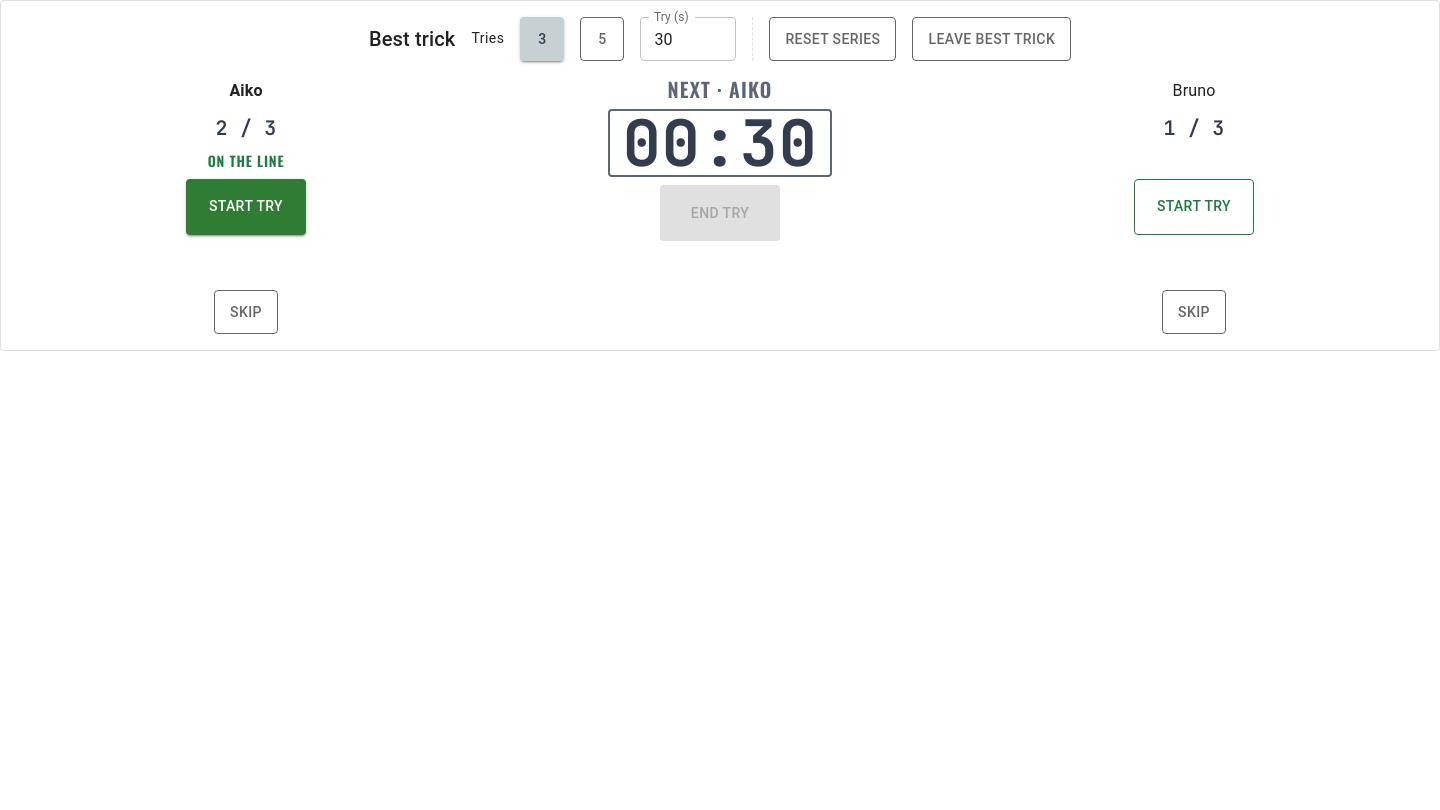
Test: BestTrickPanel — Leave best trick guard › keeps the series when the prompt is dismissed
Click the button "Leave best trick" at point(992, 39), box top-left (912, 17), bottom-right (1071, 61)
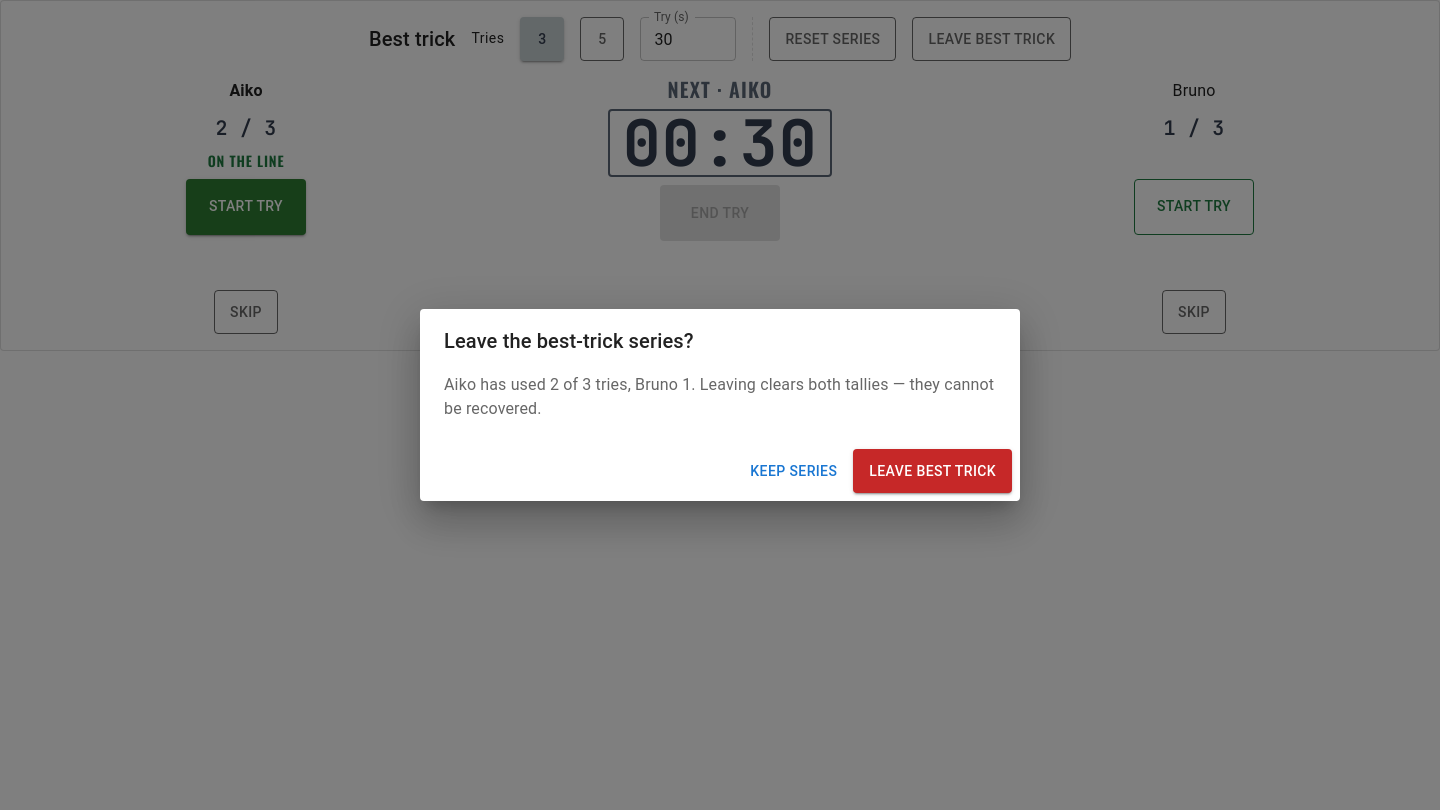
Click the button "Keep series" at point(794, 471), box top-left (742, 453), bottom-right (845, 489)
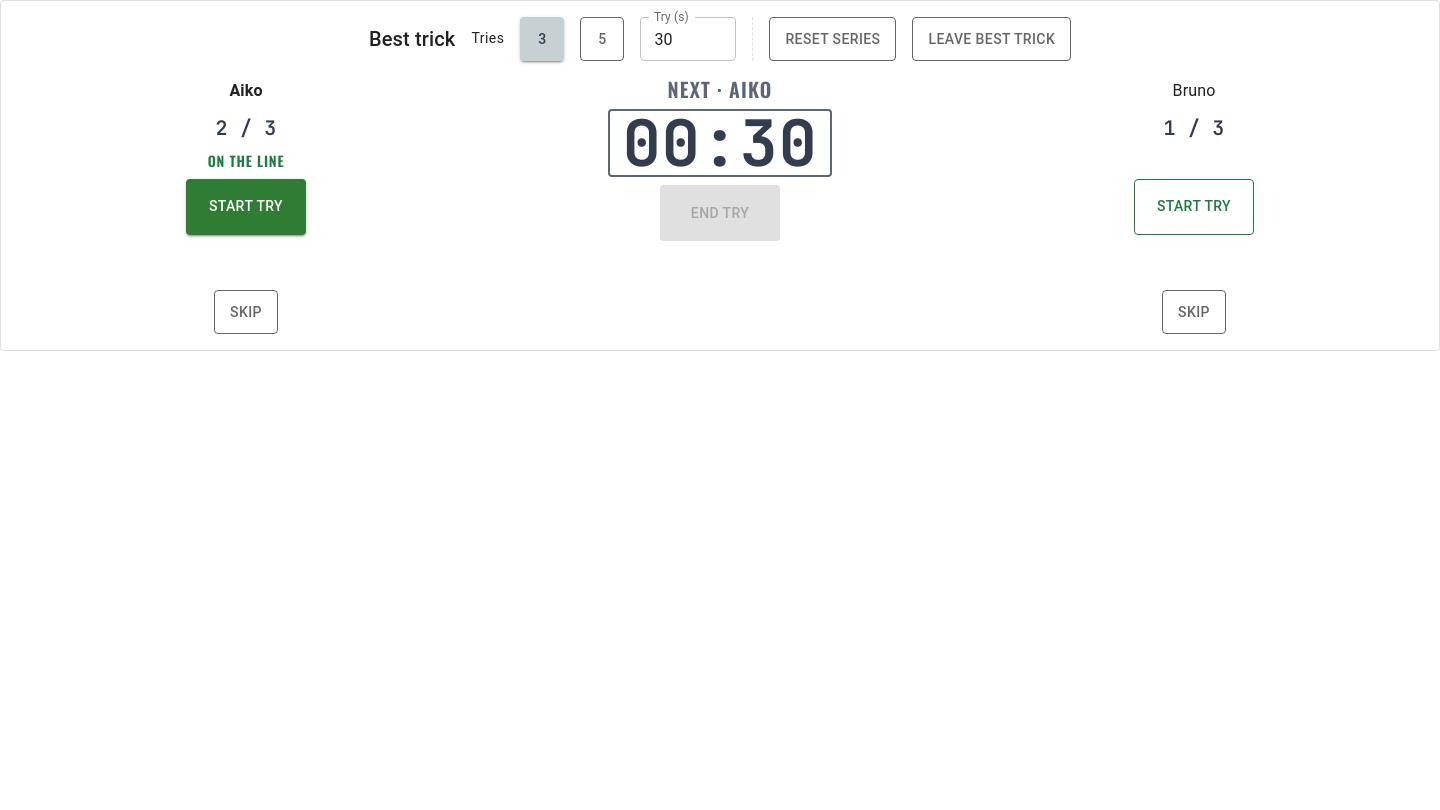
Expected: the dialog is gone
